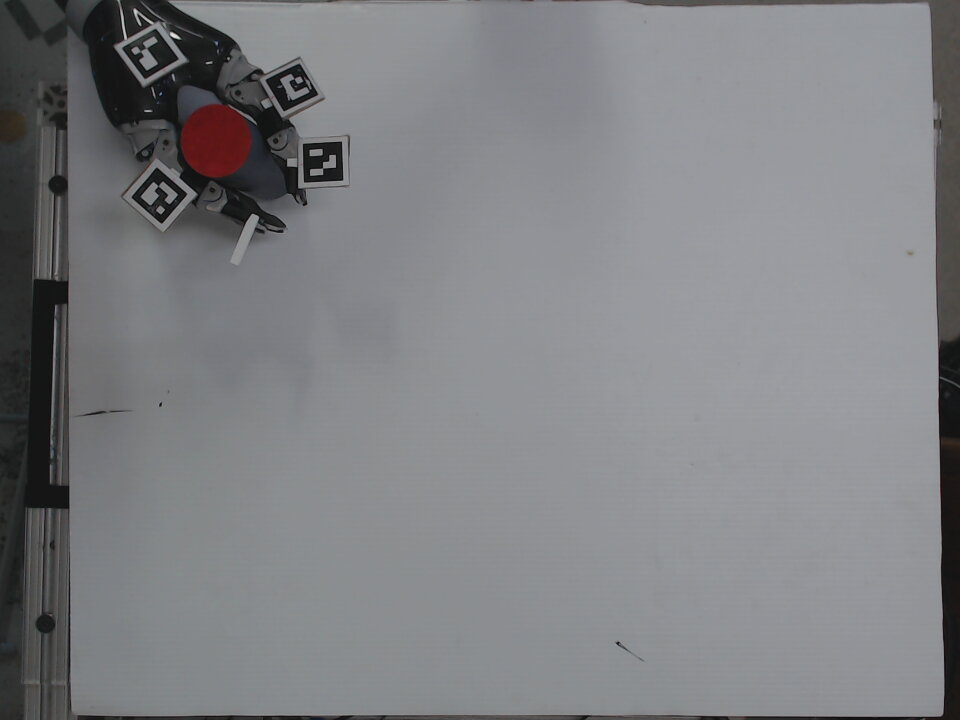cylinder: (177, 102, 292, 204)
